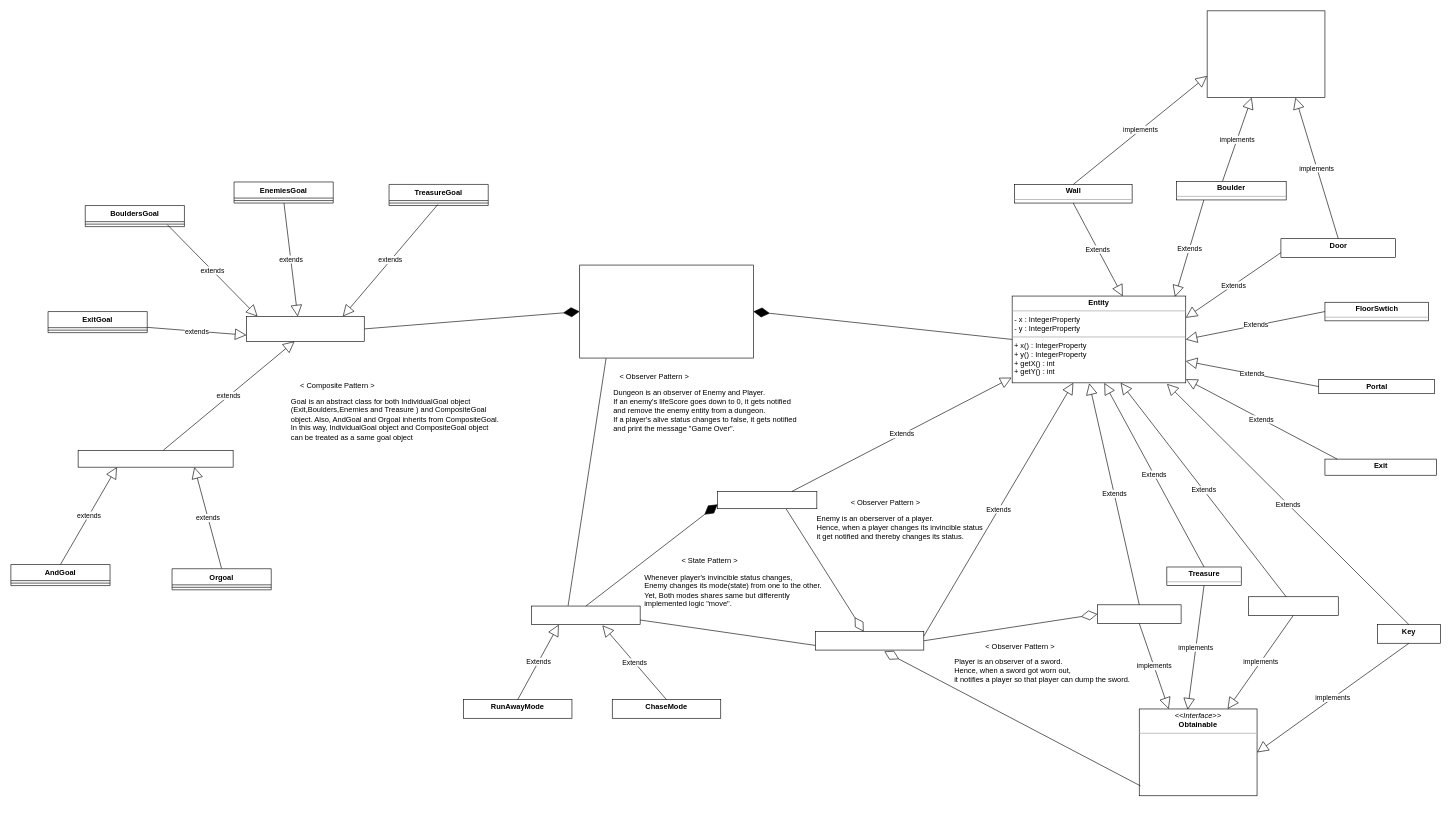
This 1451x813 diagram has some shape labels left out. Here are the shapes that lost their labels. From the top down, the centre of each, then its label:
At (1266,54): "<<Interface>> Barrier".
At (305,328): "<<abstract class>> Goal".
At (666,311): "Dungeon".
At (155,458): "CompositeGoal".
At (767,500): "Enemy".
At (585,615): "Mode".
At (1139,613): "Sword".
At (1293,605): "InvincibilityPortion - -".
At (869,640): "Player".
